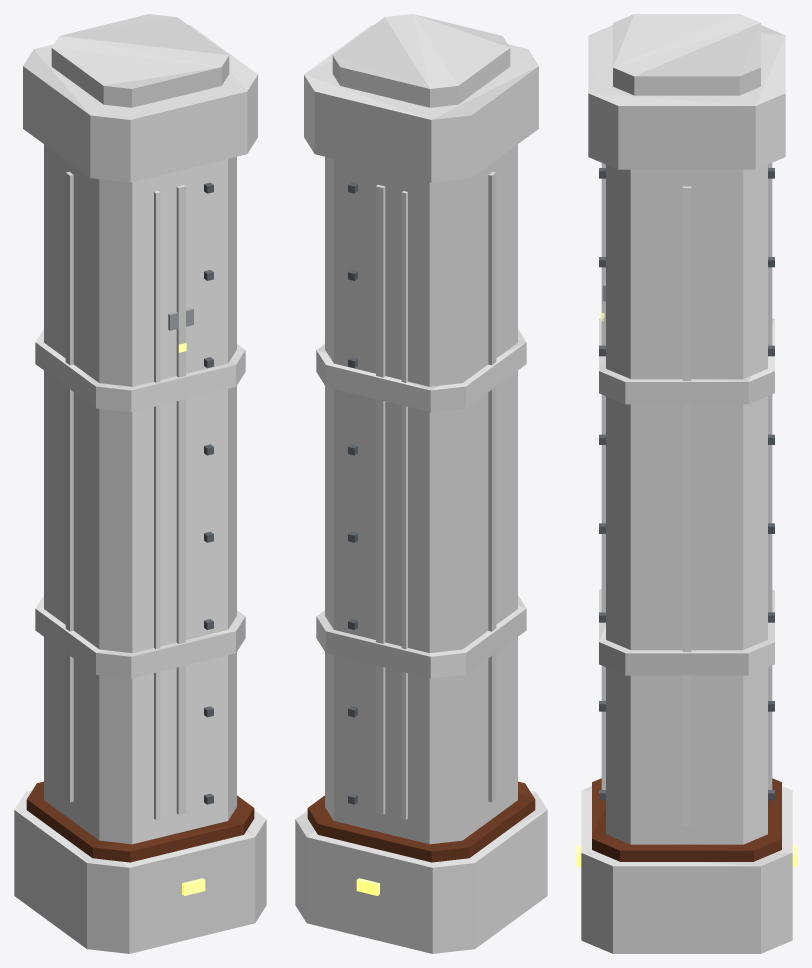
Rendered from Wall_Pillar.fbx.
3 renders of one model, left to right at view 1: azimuth 30°, elevation 25°; view 2: azimuth 150°, elevation 25°; view 3: azimuth 270°, elevation 25°, orthographic.
Visible parts, largest first — view 1: Wall_Pillar; view 2: Wall_Pillar; view 3: Wall_Pillar.
Boxes of the visible parts, x1,y1,x2,y2 form: Wall_Pillar: (14,14,266,953); Wall_Pillar: (295,14,547,953); Wall_Pillar: (576,14,797,953).
Size of the model in its own units: 1.2 by 5.42 by 1.26.
